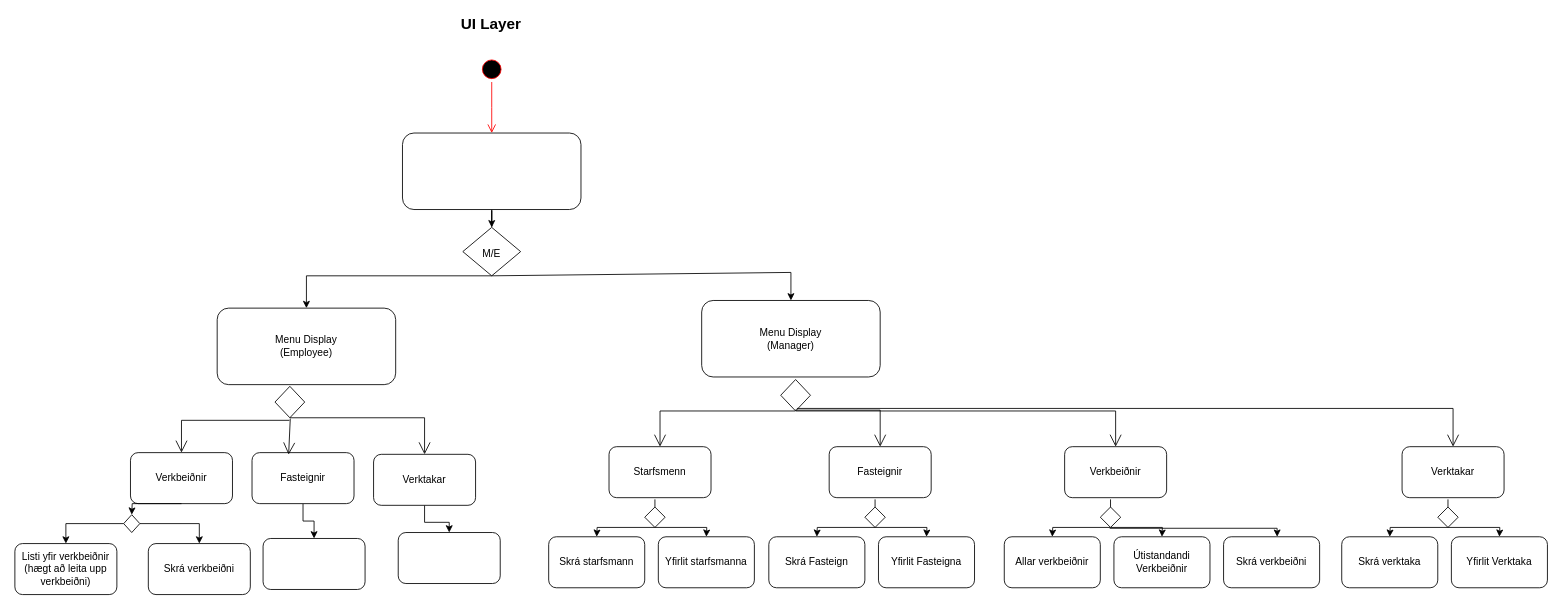
Image size: 1562x609. Some labels were removed from this diagram. Each missing label, with the centre of its shape:
Biðja Notenda um aðgang (Starfsmaður / Yfirmaður): point 491,171
Listi fasteigna: point 313,563
Sýnir upl. um verktaka: point 448,558
